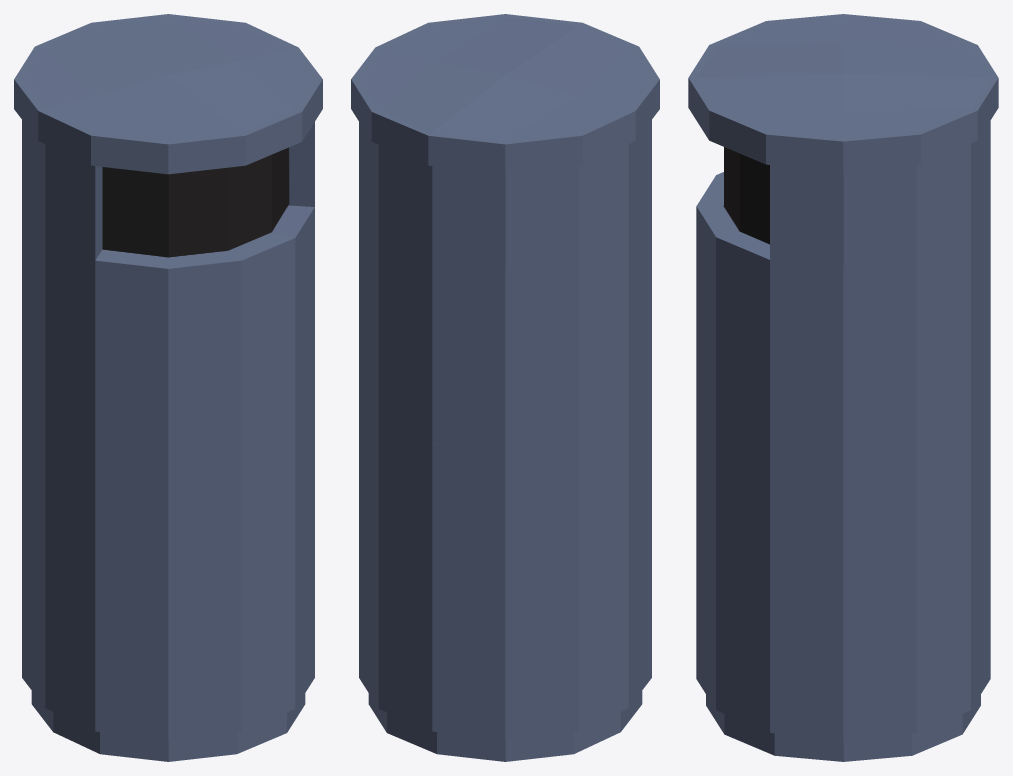
The model's file is Trash.fbx.
3 views of the same model, side by side, from view 1: azimuth 30°, elevation 25°; view 2: azimuth 150°, elevation 25°; view 3: azimuth 270°, elevation 25° (orthographic).
Visible parts, largest first — view 1: Cylinder; view 2: Cylinder; view 3: Cylinder.
Boxes of the visible parts, x1,y1,x2,y2 form: Cylinder: (14, 14, 322, 761); Cylinder: (351, 14, 659, 761); Cylinder: (688, 14, 998, 761).
Size of the model in its own units: 0.8215 by 1.9 by 0.8437.
